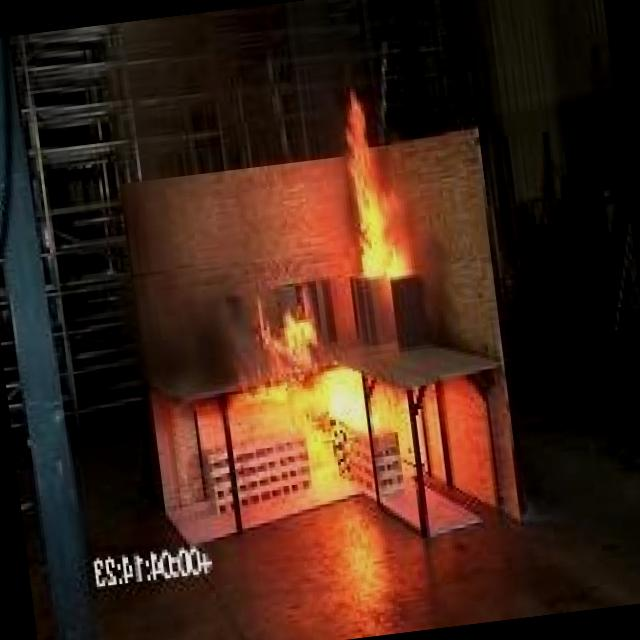fire: (233, 306, 428, 502), (300, 73, 447, 318)
